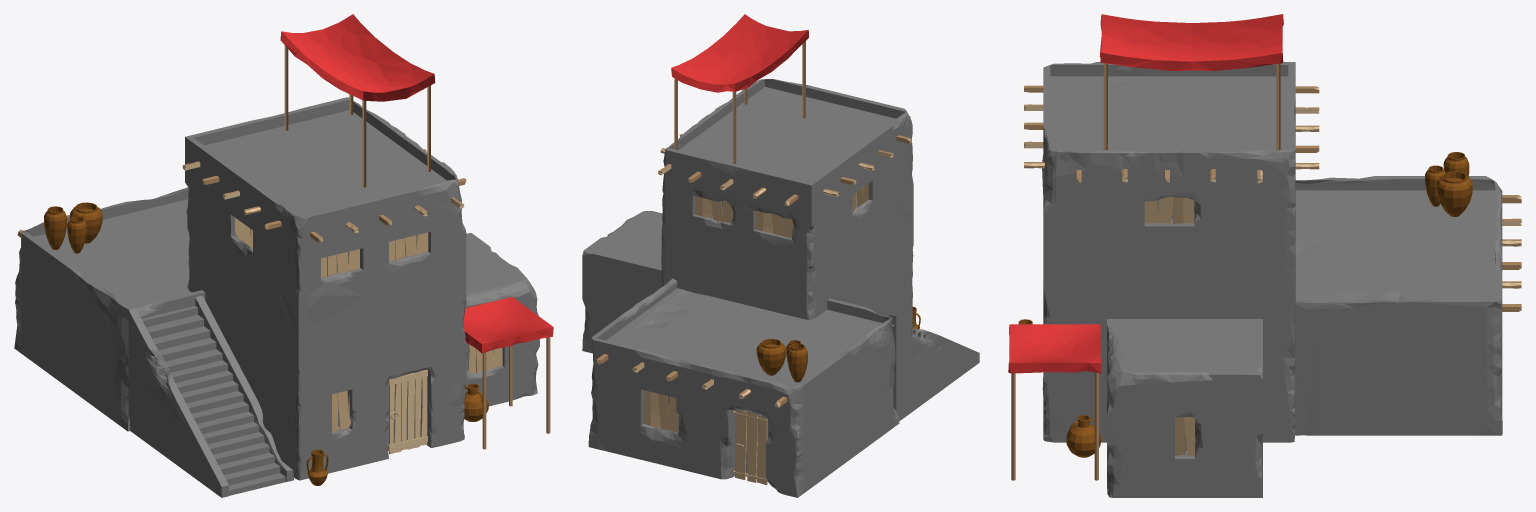
Rendered from SM_house_egypt_03.fbx.
The picture shows the model from 3 angles, left to right: view 1: azimuth 30°, elevation 25°; view 2: azimuth 150°, elevation 25°; view 3: azimuth 270°, elevation 25°; orthographic projection. The views are drawn at different scales.
Visible parts, largest first — view 1: Object165; view 2: Object165; view 3: Object165.
Boxes of the visible parts, left/top/right/bottom form: Object165: left=14, top=14, right=553, bottom=497; Object165: left=582, top=14, right=979, bottom=497; Object165: left=1008, top=14, right=1521, bottom=497.
Bounding box in the file's own units: 386 × 444 × 370.
